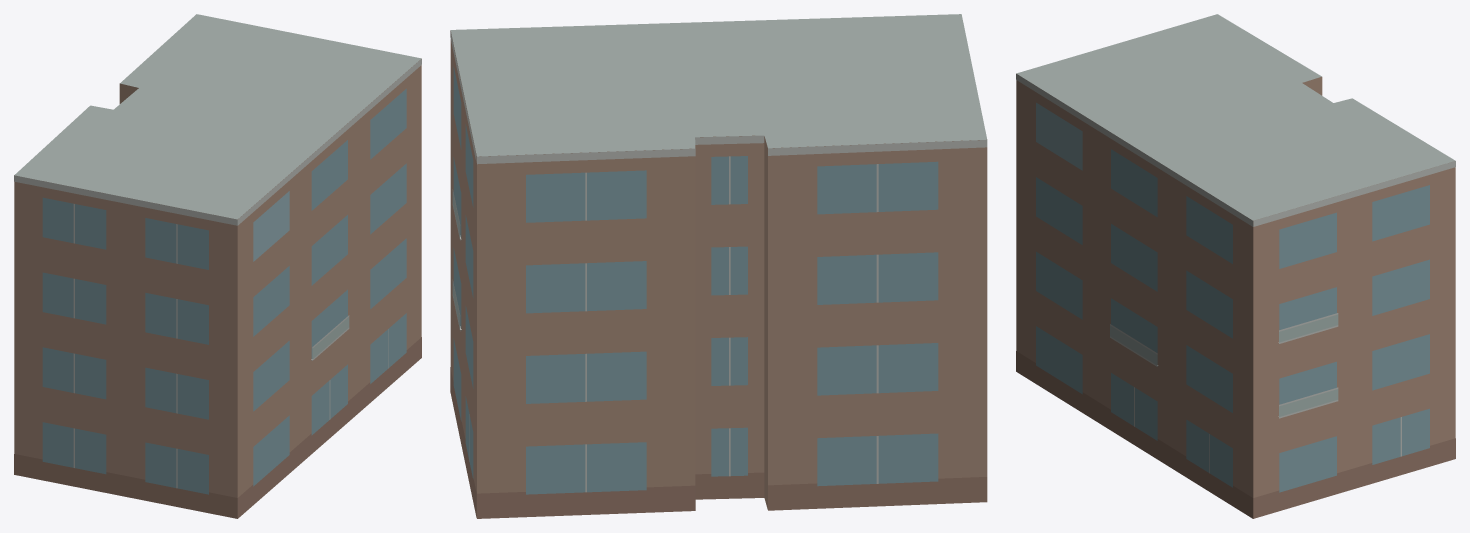
File: survey-upis-32690993.glb
3 views of the same model, side by side, from view 1: azimuth 30°, elevation 25°; view 2: azimuth 150°, elevation 25°; view 3: azimuth 270°, elevation 25° (orthographic). The views are drawn at different scales.
Visible parts, largest first — view 1: survey-upis-32690993.tmp; view 2: survey-upis-32690993.tmp; view 3: survey-upis-32690993.tmp.
Part boxes in pixels (x1,y1,x2,y2): survey-upis-32690993.tmp: (14,14,421,518); survey-upis-32690993.tmp: (450,14,987,518); survey-upis-32690993.tmp: (1016,14,1455,518).
Bounding box in the file's own units: 17.19 × 11.55 × 15.45.
